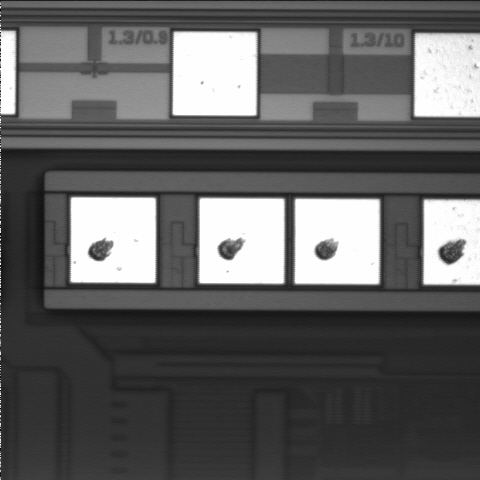pad: (71, 197, 156, 283), (199, 198, 284, 284), (295, 199, 380, 284), (173, 32, 257, 115)
